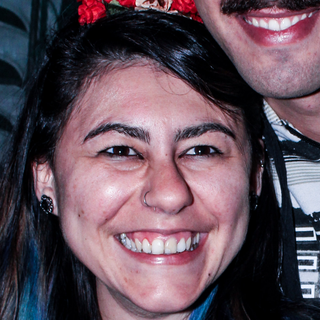eye: (94, 140, 144, 165), (180, 140, 226, 164)
